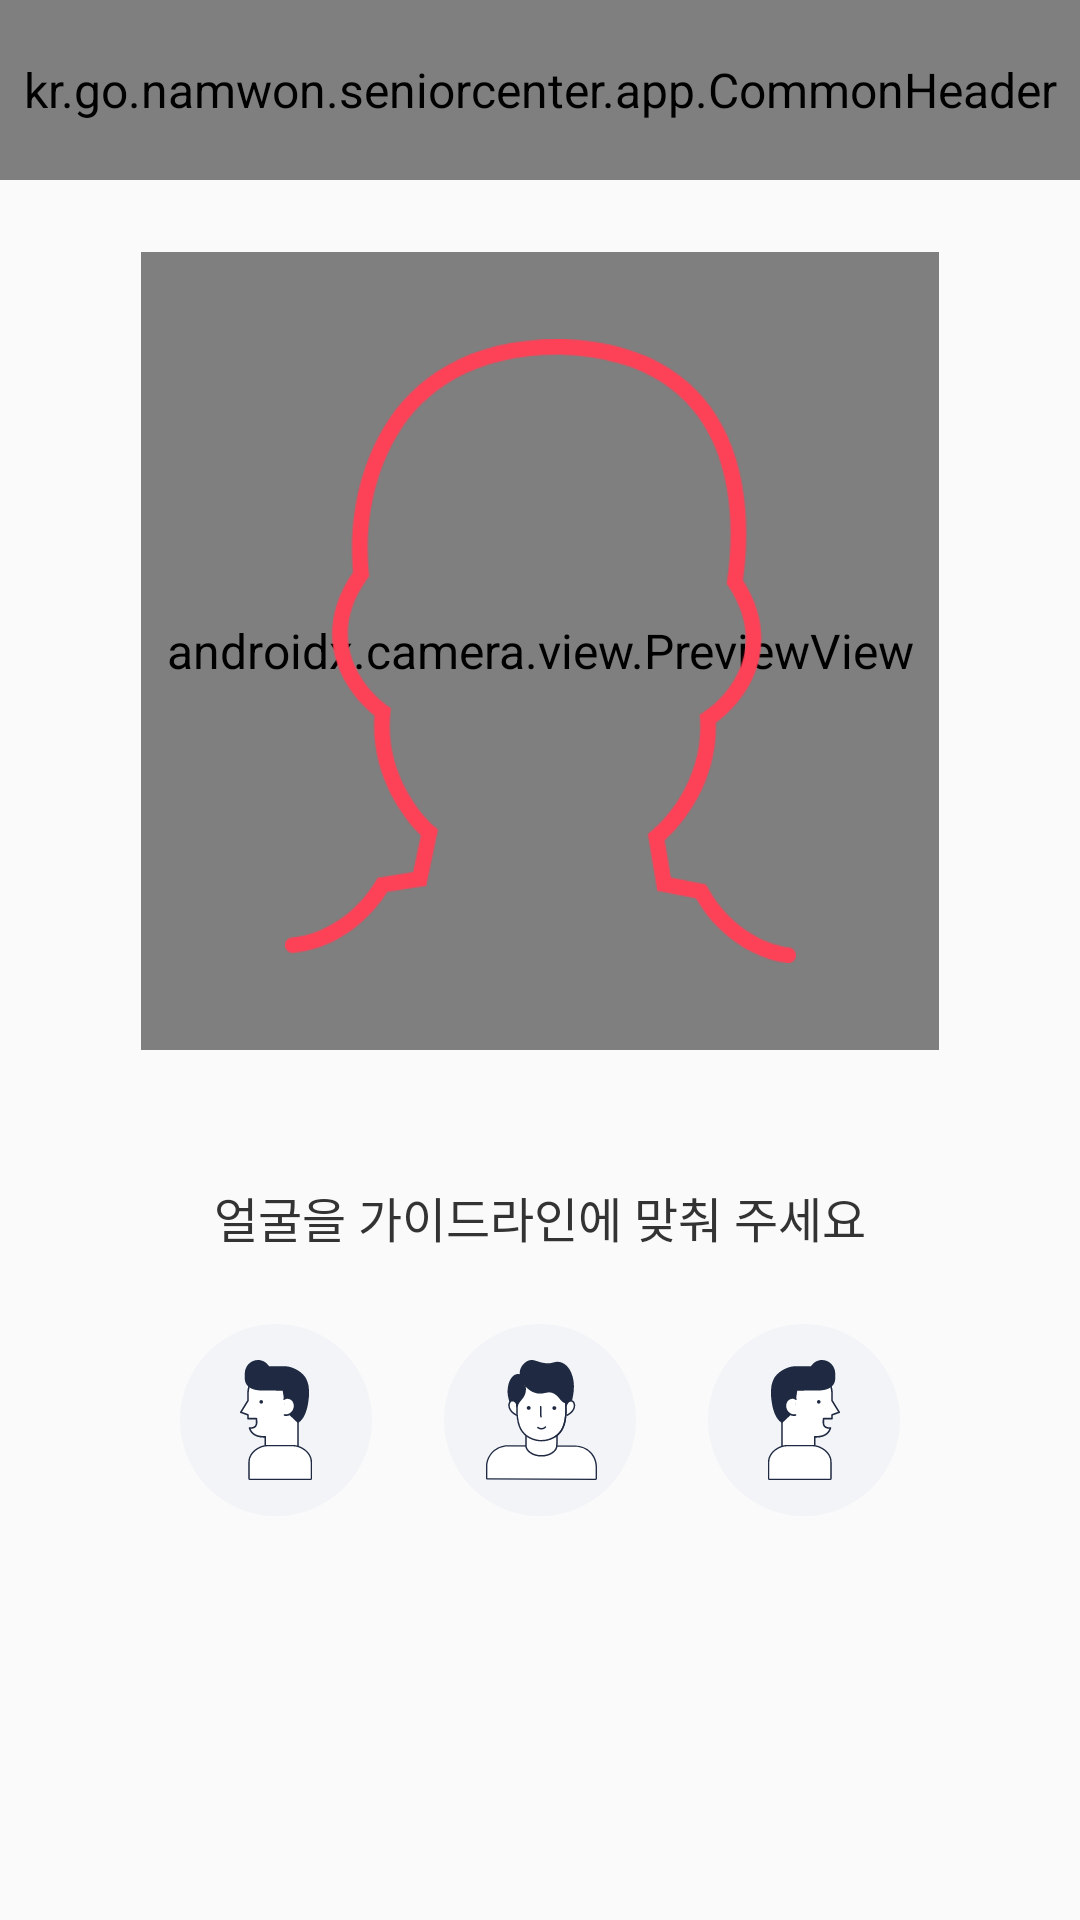

Screen size 1080*1920. Icon name, then its center in pixels as [x,y]:
front off: [541,1420]
left off: [276,1420]
right off: [804,1420]
